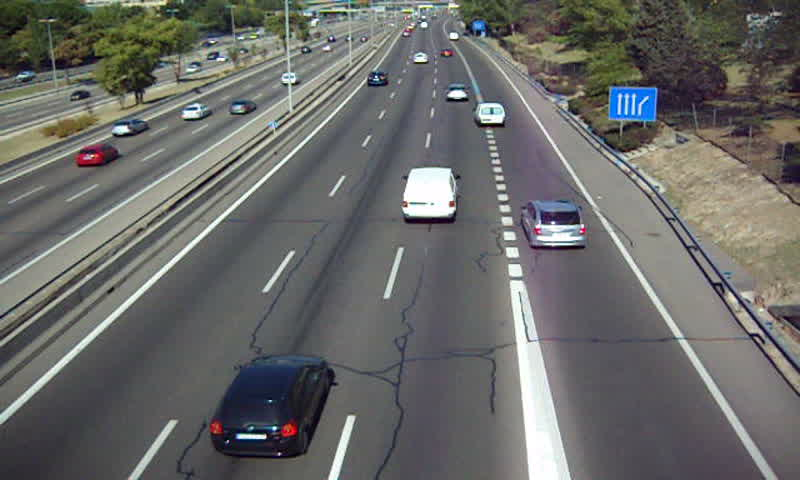car: (210, 354, 329, 456), (522, 202, 587, 250), (444, 84, 471, 103), (367, 70, 388, 87), (410, 50, 429, 63)
van: (402, 168, 458, 223), (475, 103, 505, 128)
